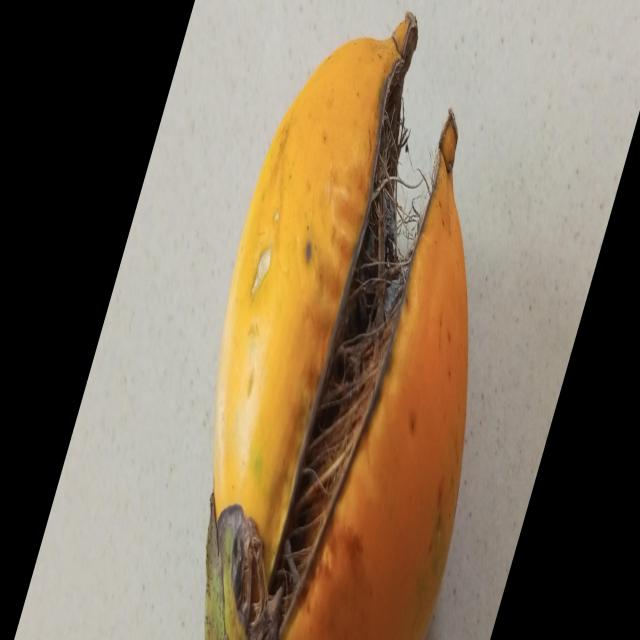damaged: (205, 13, 468, 640)
